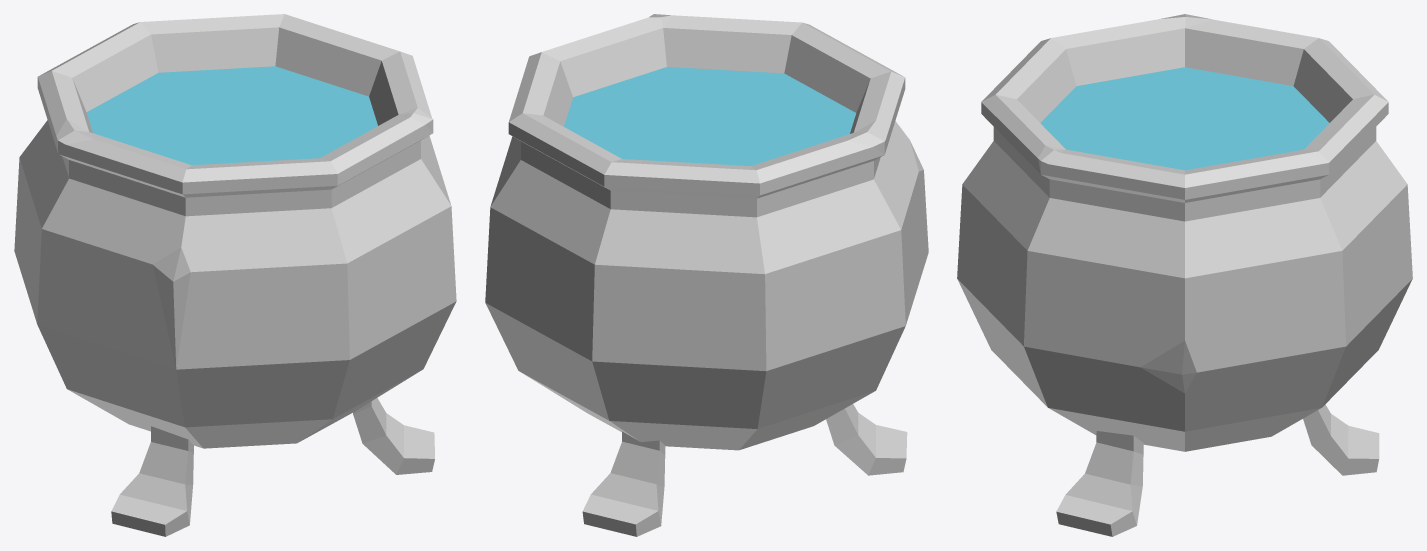
The model's file is Ketel.fbx.
The picture shows the model from 3 angles, left to right: view 1: azimuth 30°, elevation 25°; view 2: azimuth 150°, elevation 25°; view 3: azimuth 270°, elevation 25°; orthographic projection.
Parts seen in each view (by area): view 1: SM_Prop_Cauldron_01; view 2: SM_Prop_Cauldron_01; view 3: SM_Prop_Cauldron_01.
Part boxes in pixels (box(x1,y1,x2,y2)): SM_Prop_Cauldron_01: box(14, 14, 456, 536); SM_Prop_Cauldron_01: box(485, 14, 928, 536); SM_Prop_Cauldron_01: box(957, 14, 1412, 536).
Bounding box in the file's own units: 237 × 210 × 238.
